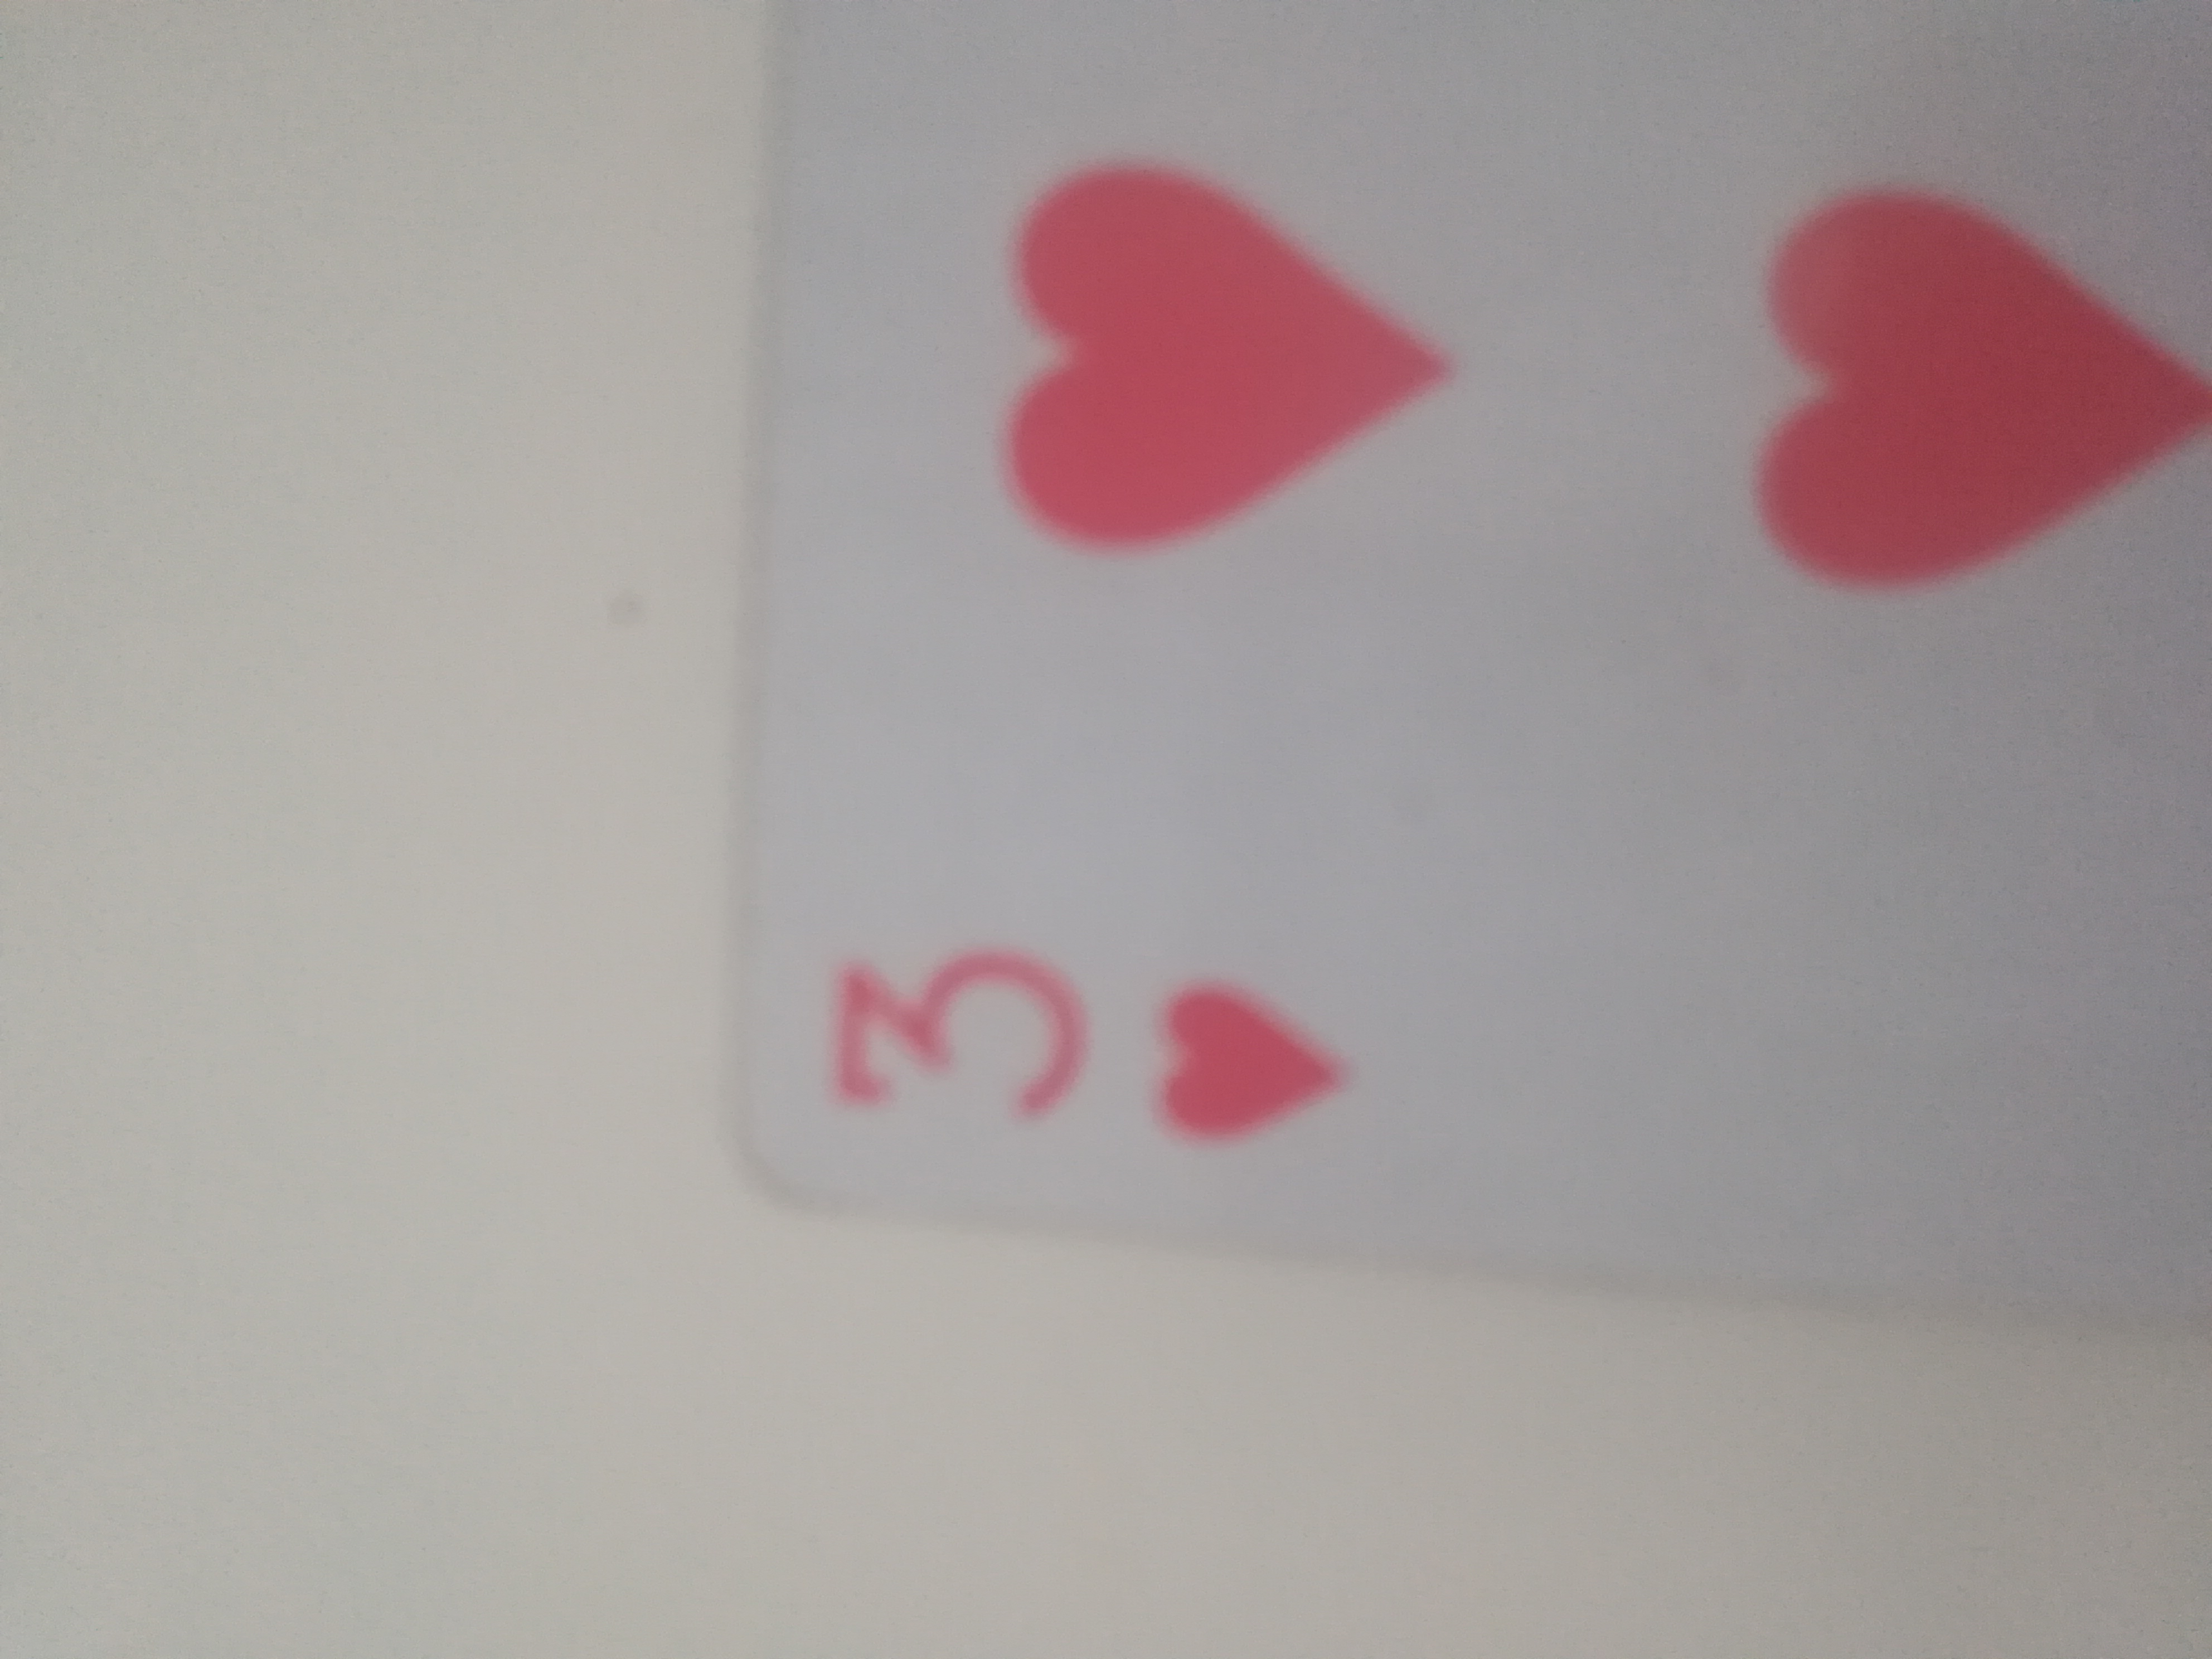3H: (723, 0, 2207, 1340)
